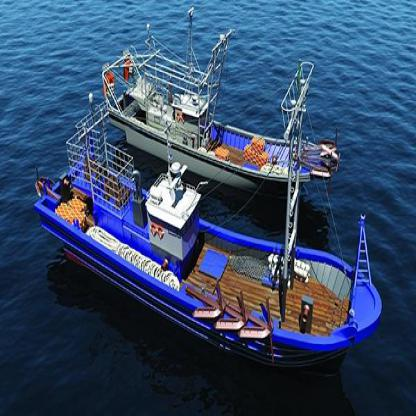fish-b: (26, 87, 388, 370), (97, 4, 343, 195)
